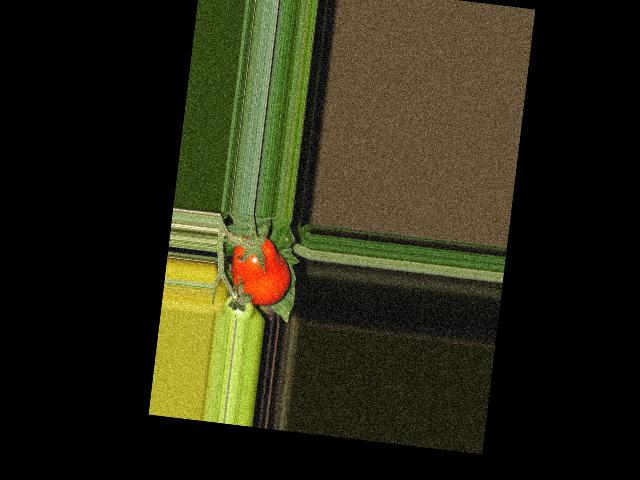tomato: (227, 233, 295, 308)
